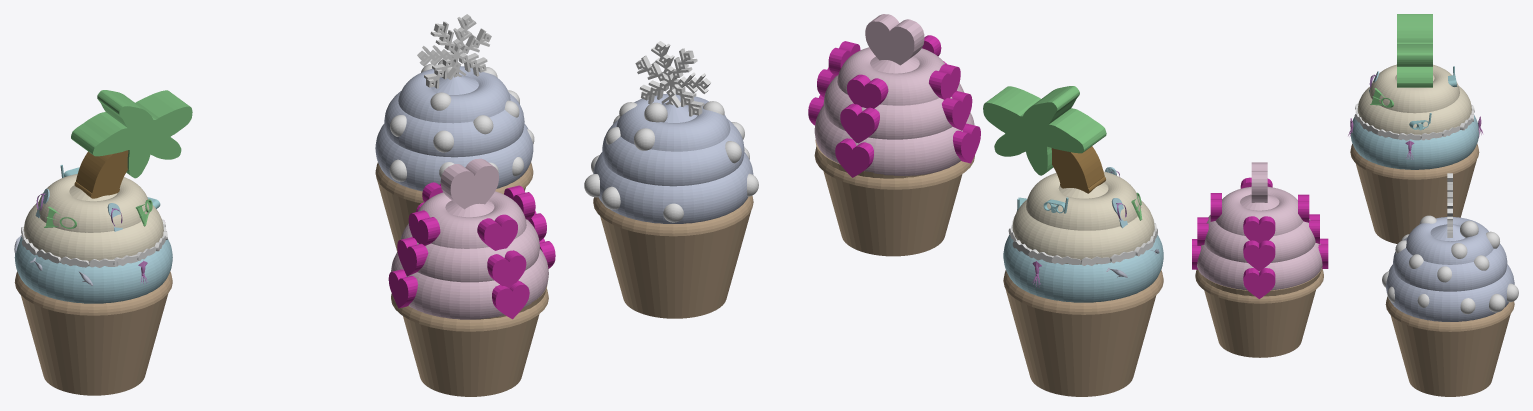
File: Shea W. Three Cupcakes.glb
The picture shows the model from 3 angles, left to right: view 1: azimuth 30°, elevation 25°; view 2: azimuth 150°, elevation 25°; view 3: azimuth 270°, elevation 25°; orthographic projection. The views are drawn at different scales.
Visible parts, largest first — view 1: Mesh_Mesh_head_geo.001_lambert2SG.001; view 2: Mesh_Mesh_head_geo.001_lambert2SG.001; view 3: Mesh_Mesh_head_geo.001_lambert2SG.001.
Part boxes in pixels (left/top/right/bottom): Mesh_Mesh_head_geo.001_lambert2SG.001: left=14, top=14, right=555, bottom=396; Mesh_Mesh_head_geo.001_lambert2SG.001: left=584, top=14, right=1163, bottom=396; Mesh_Mesh_head_geo.001_lambert2SG.001: left=1192, top=14, right=1518, bottom=396.
Size of the model in its own units: 0.1825 by 0.091 by 0.1218.
